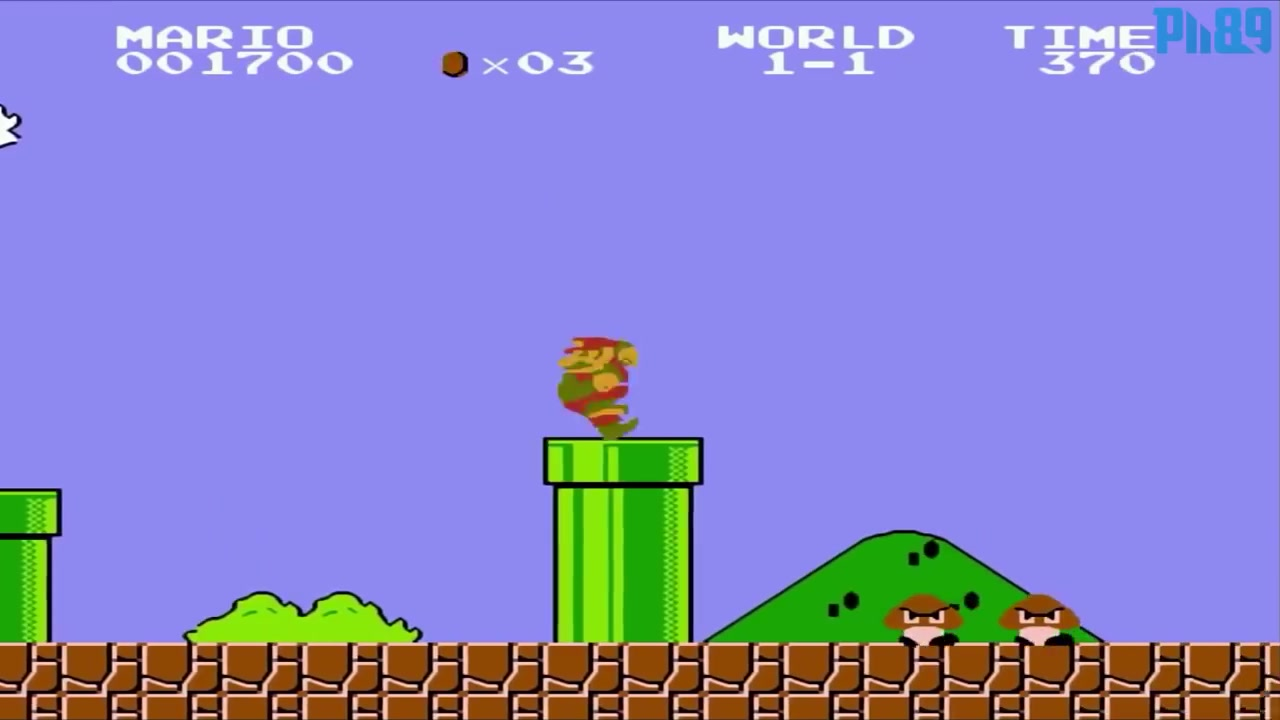mario: (548, 331, 649, 440)
